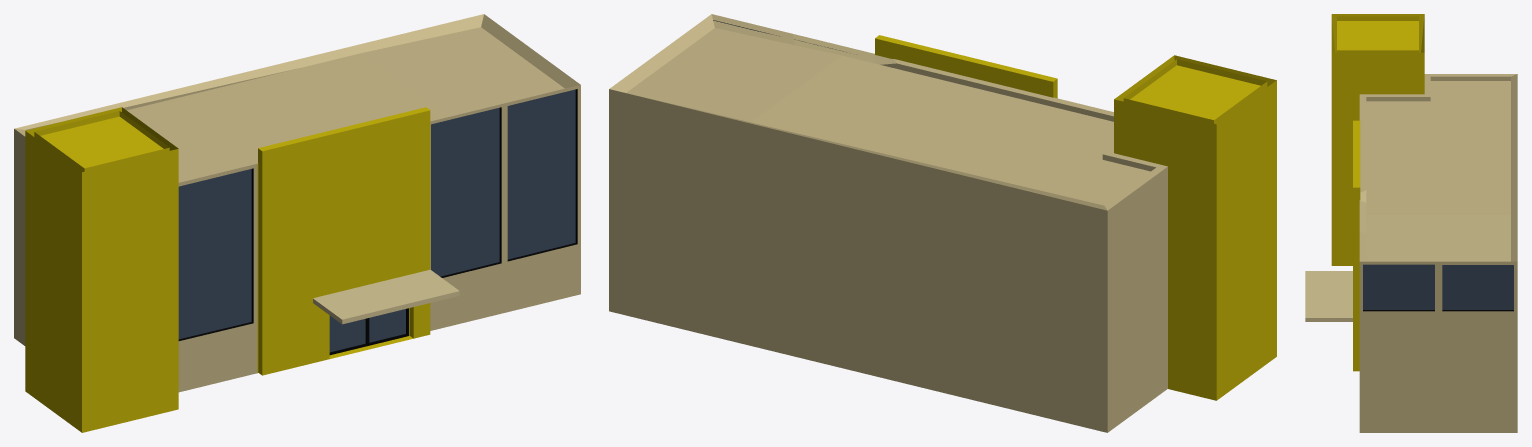
File: officeMax.fbx
3 renders of one model, left to right at view 1: azimuth 30°, elevation 25°; view 2: azimuth 150°, elevation 25°; view 3: azimuth 270°, elevation 25°, orthographic. The views are drawn at different scales.
Visible parts, largest first — view 1: Cube, Cube.001, Cube.002, Cube.003; view 2: Cube, Cube.001, Cube.002; view 3: Cube, Cube.001, Cube.003, Cube.002.
Boxes of the visible parts, x1,y1,x2,y2 form: Cube: (14, 14, 580, 392); Cube.001: (25, 107, 178, 432); Cube.002: (258, 107, 430, 375); Cube.003: (313, 269, 459, 324); Cube: (609, 14, 1167, 432); Cube.001: (1114, 55, 1276, 400); Cube.002: (875, 35, 1057, 98); Cube: (1359, 74, 1517, 432); Cube.001: (1331, 14, 1424, 265); Cube.003: (1305, 271, 1352, 321); Cube.002: (1353, 120, 1360, 371).
Size of the model in its own units: 773 by 373 by 337.
